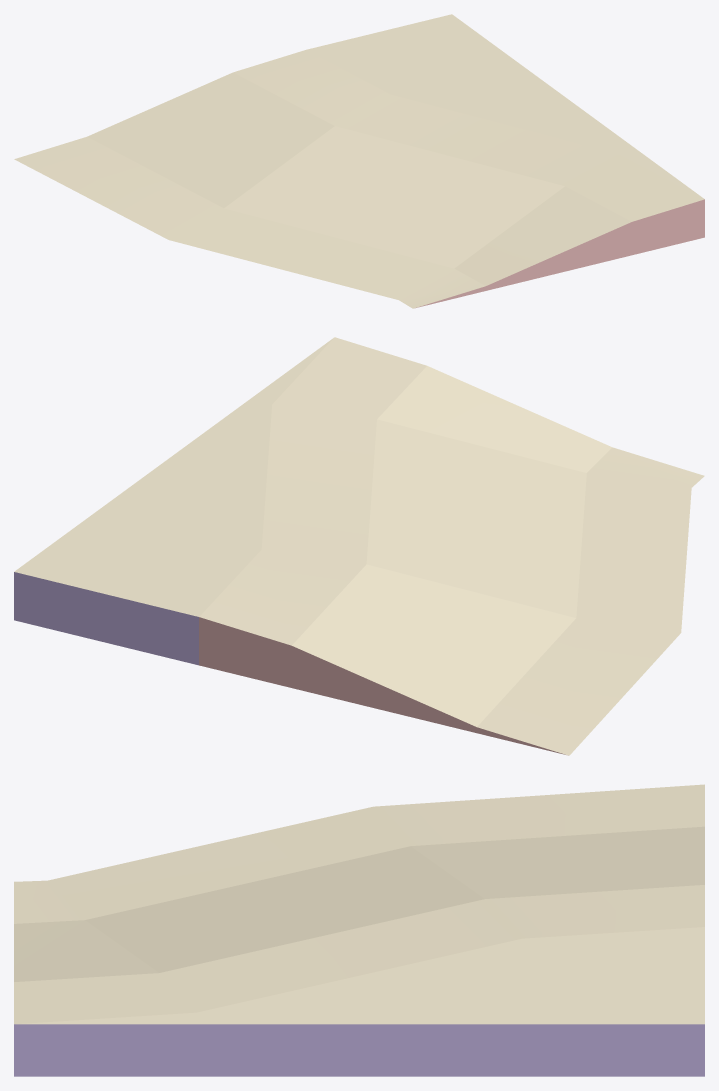
The model's file is Terrain_Sand_Incline_Esse_6x6.glb.
3 renders of one model, top to bottom at view 1: azimuth 30°, elevation 25°; view 2: azimuth 150°, elevation 25°; view 3: azimuth 270°, elevation 25°, orthographic. The views are drawn at different scales.
Parts seen in each view (by area): view 1: Terrain_Sand_Incline_Esse_6x6; view 2: Terrain_Sand_Incline_Esse_6x6; view 3: Terrain_Sand_Incline_Esse_6x6.
Boxes of the visible parts, x1,y1,x2,y2 form: Terrain_Sand_Incline_Esse_6x6: [14, 14, 704, 308]; Terrain_Sand_Incline_Esse_6x6: [14, 337, 704, 755]; Terrain_Sand_Incline_Esse_6x6: [14, 784, 704, 1076].
Bounding box in the file's own units: 600 × 50 × 600.
